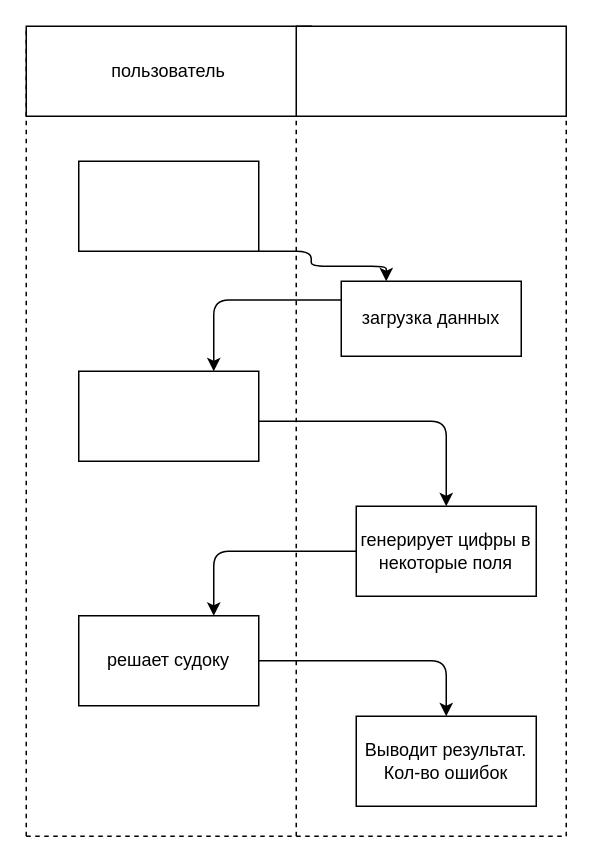
This 594x864 diagram has some shape labels left out. Here are the shapes that lost their labels. From the top down, the centre of each, then its label:
point (430, 70): приложение
point (168, 205): запускает программу
point (168, 415): нажимает кнопку играть
